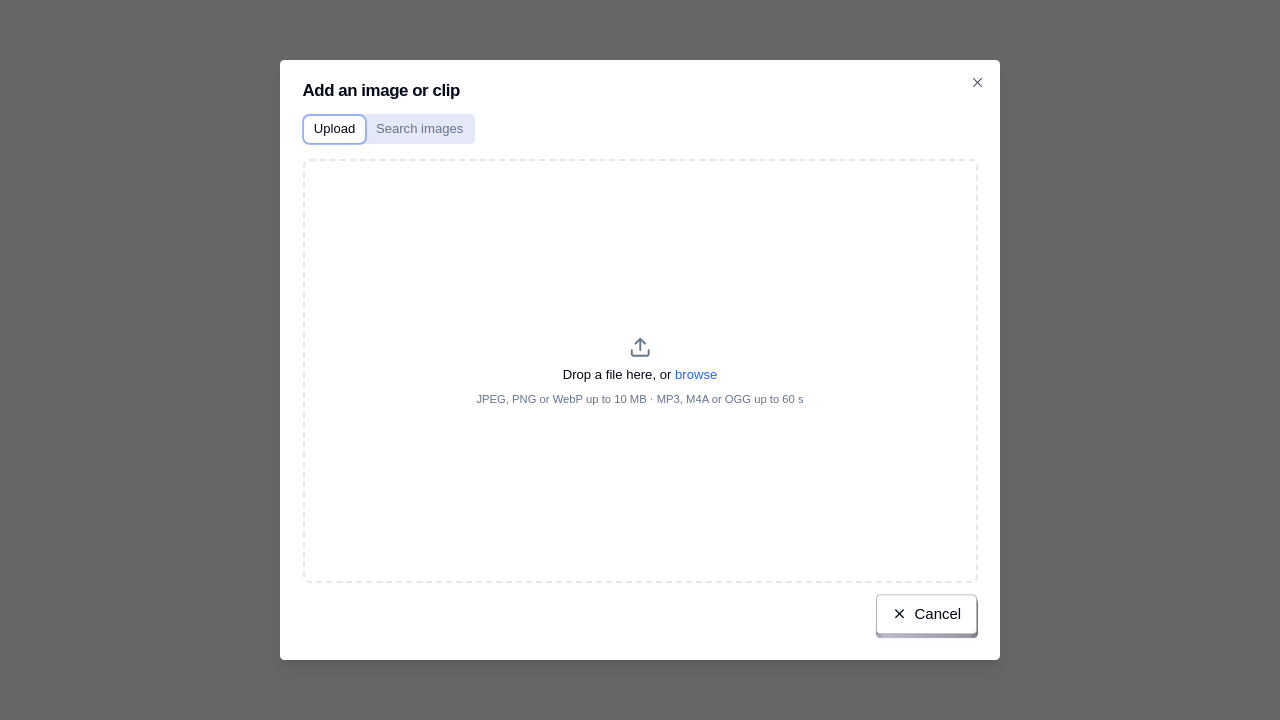
Test: AddMediaDialog — Search images › explains a busy source in place instead of crashing the editor
Click the radio button labelled "Search images": click(420, 129) [366, 116, 473, 143]
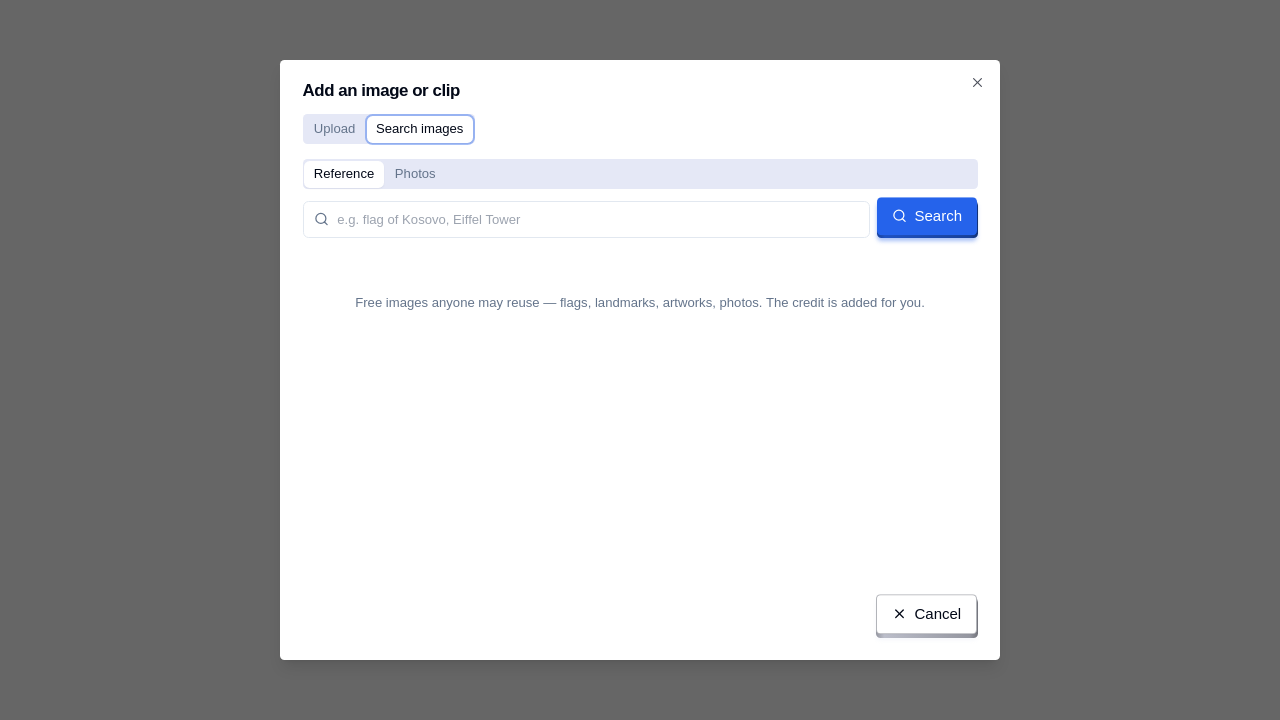
expect the search field named "Search free images" is shown: met
In the search field named "Search free images": (586, 219) [302, 201, 870, 238], type "eiffel tower"
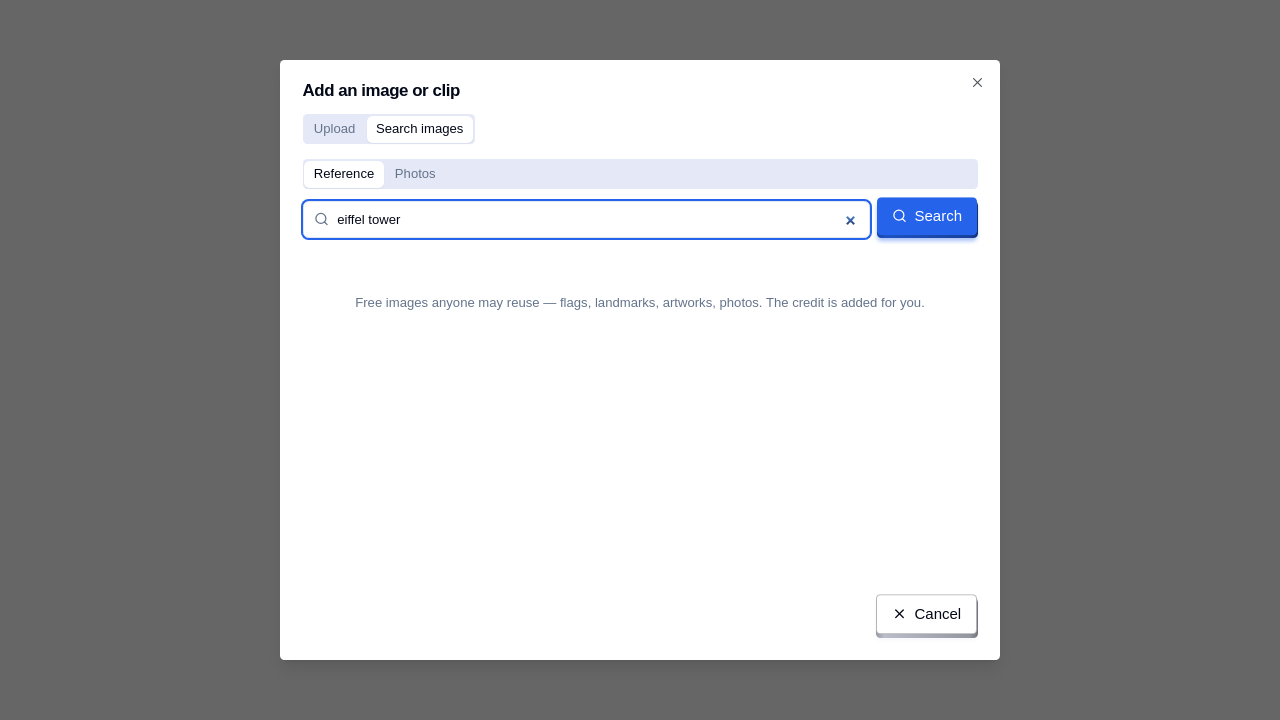
Click the button "Search": click(928, 219) [878, 201, 978, 238]
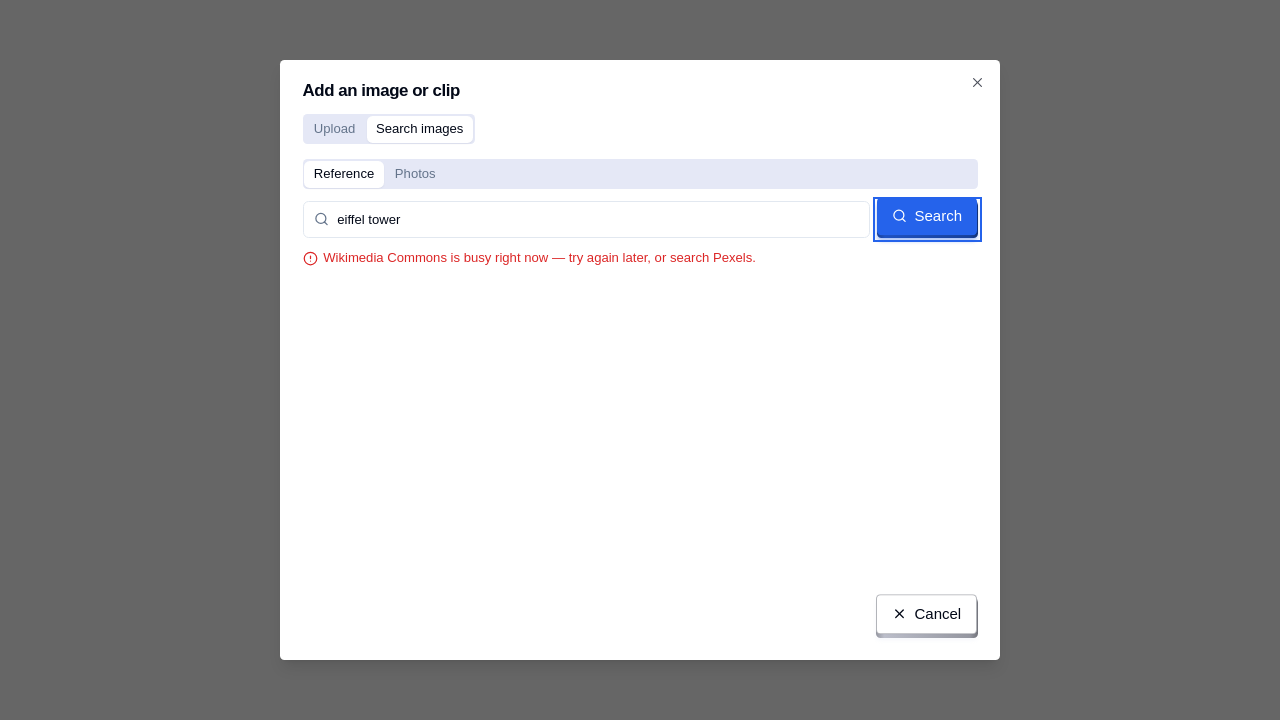
expect the message shows "busy right now": met, box [323, 250, 756, 265]
